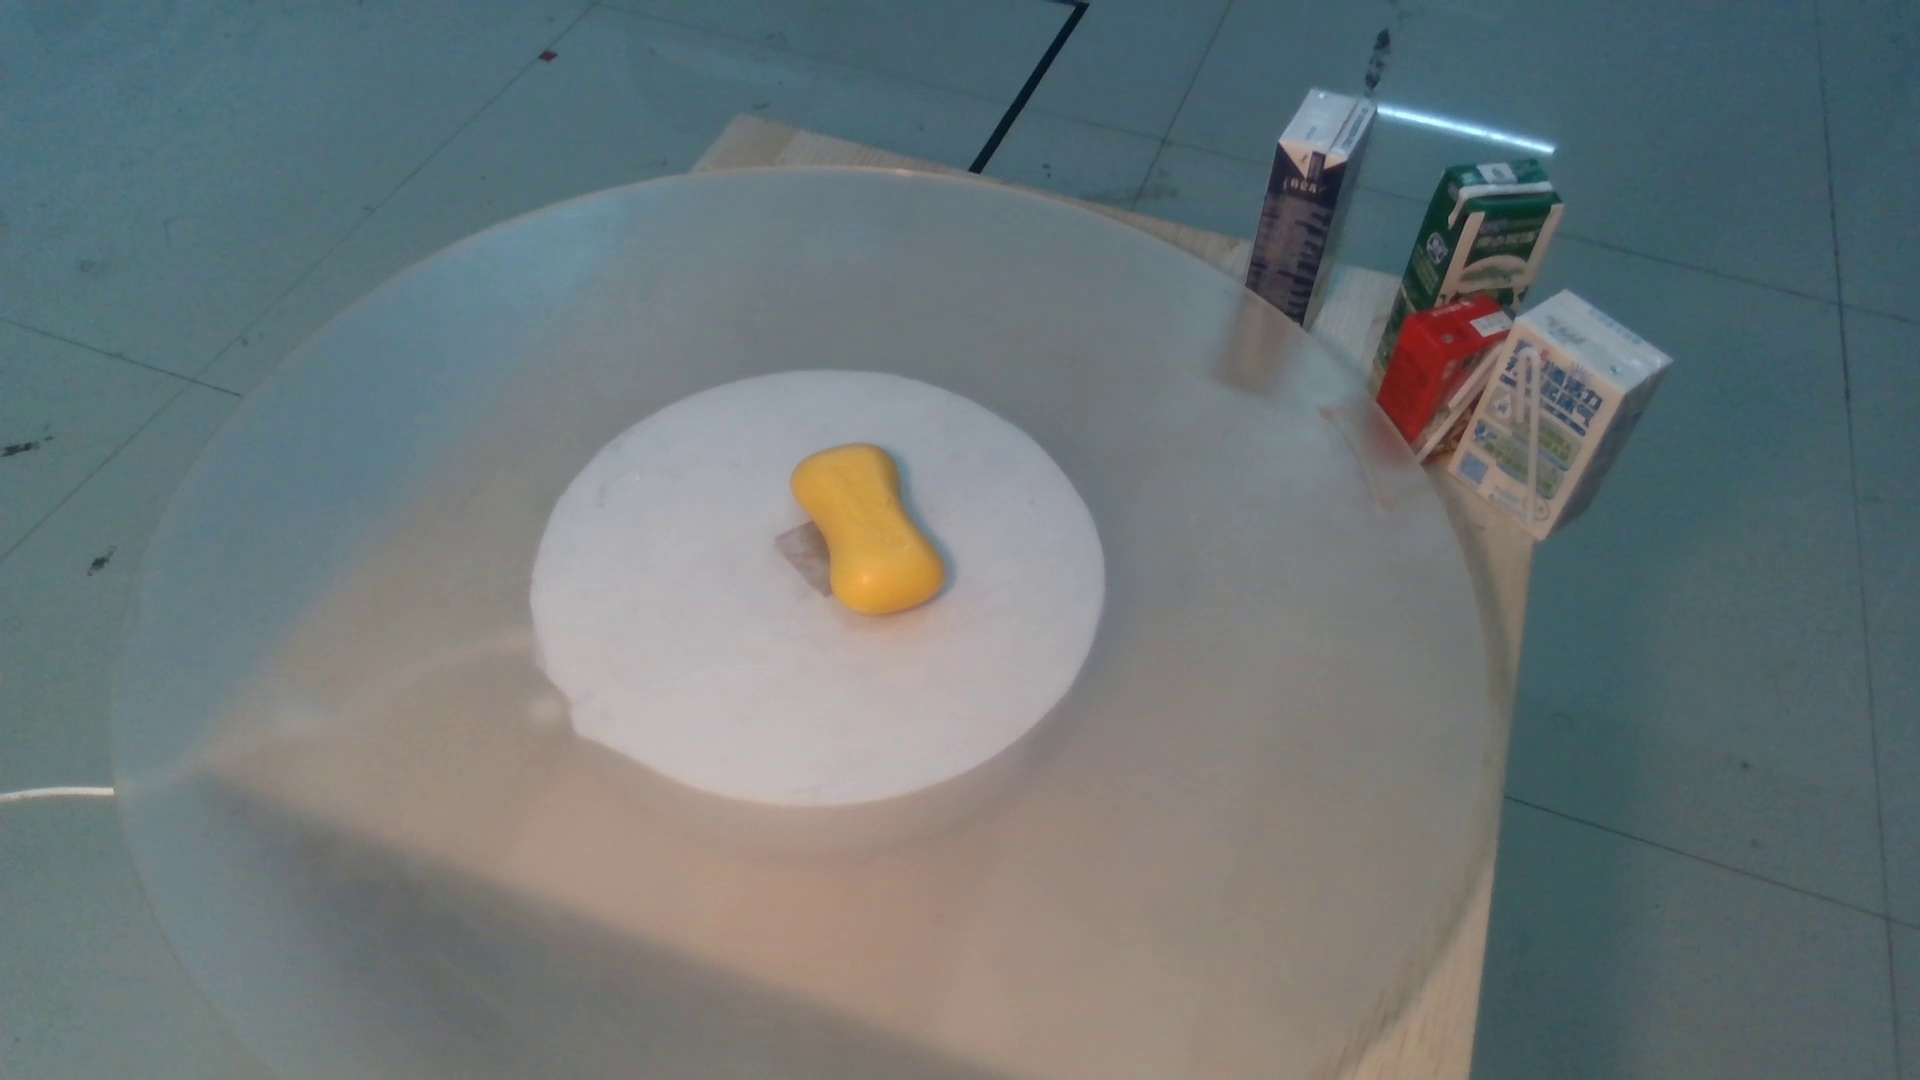CA003_1: (774, 440, 975, 626)
